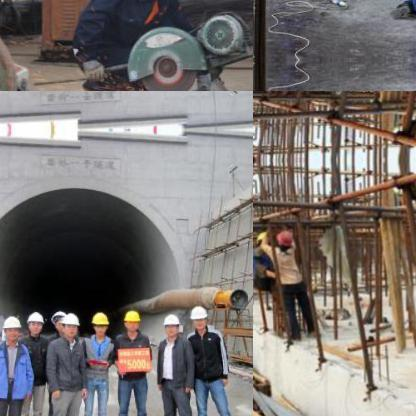Helmet: (160, 310, 180, 340), (50, 308, 68, 338), (2, 315, 20, 343), (22, 309, 42, 334), (88, 310, 107, 336), (60, 312, 78, 338), (190, 304, 206, 332), (120, 310, 138, 334), (274, 228, 294, 249), (254, 230, 270, 248)
